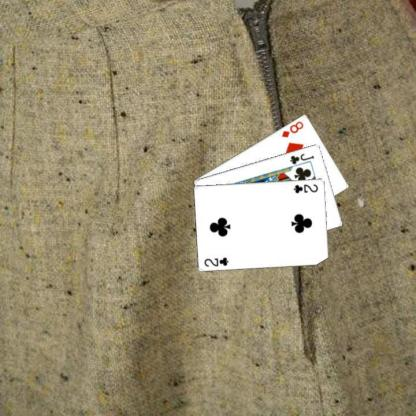2C: (202, 254, 230, 268), (291, 182, 320, 194)
8D: (279, 118, 305, 139)
JC: (288, 151, 315, 165)
